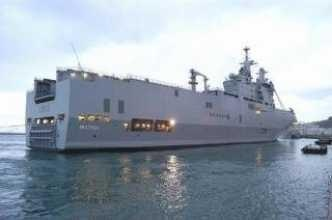Cargoship: (25, 43, 300, 151)
